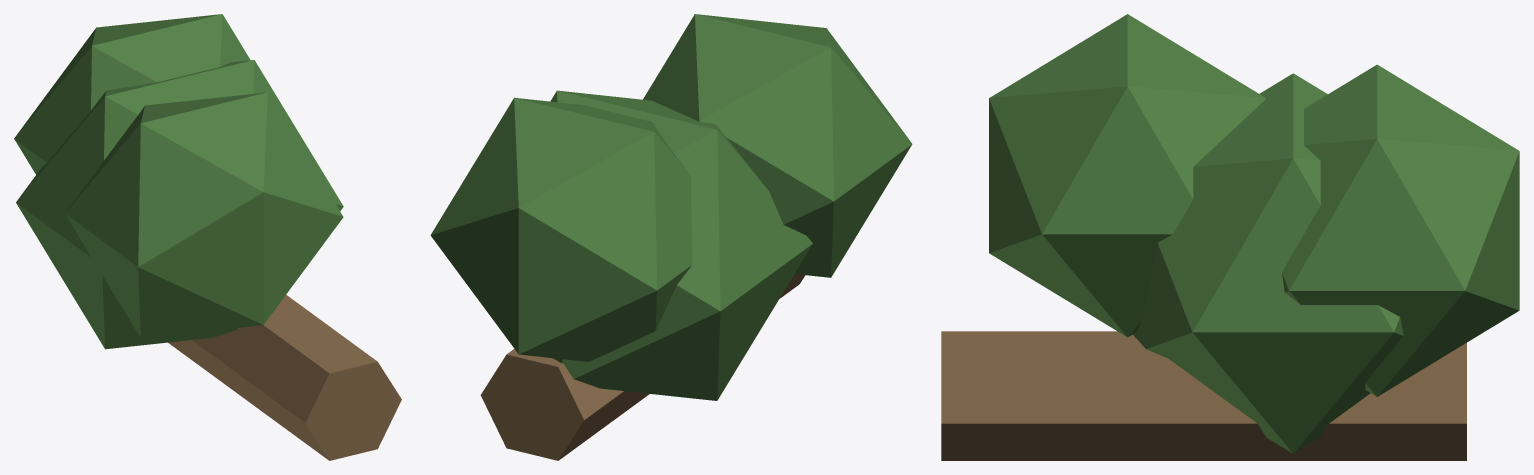
File: tree_s3_03.glb
The picture shows the model from 3 angles, left to right: view 1: azimuth 30°, elevation 25°; view 2: azimuth 150°, elevation 25°; view 3: azimuth 270°, elevation 25°; orthographic projection. The views are drawn at different scales.
Visible parts, largest first — view 1: geometry_0; view 2: geometry_0; view 3: geometry_0.
Part boxes in pixels (bbox=[...]): geometry_0: bbox=[14, 14, 401, 460]; geometry_0: bbox=[430, 14, 912, 460]; geometry_0: bbox=[941, 14, 1519, 460].
Size of the model in its own units: 1.75 by 1.9 by 2.78.
